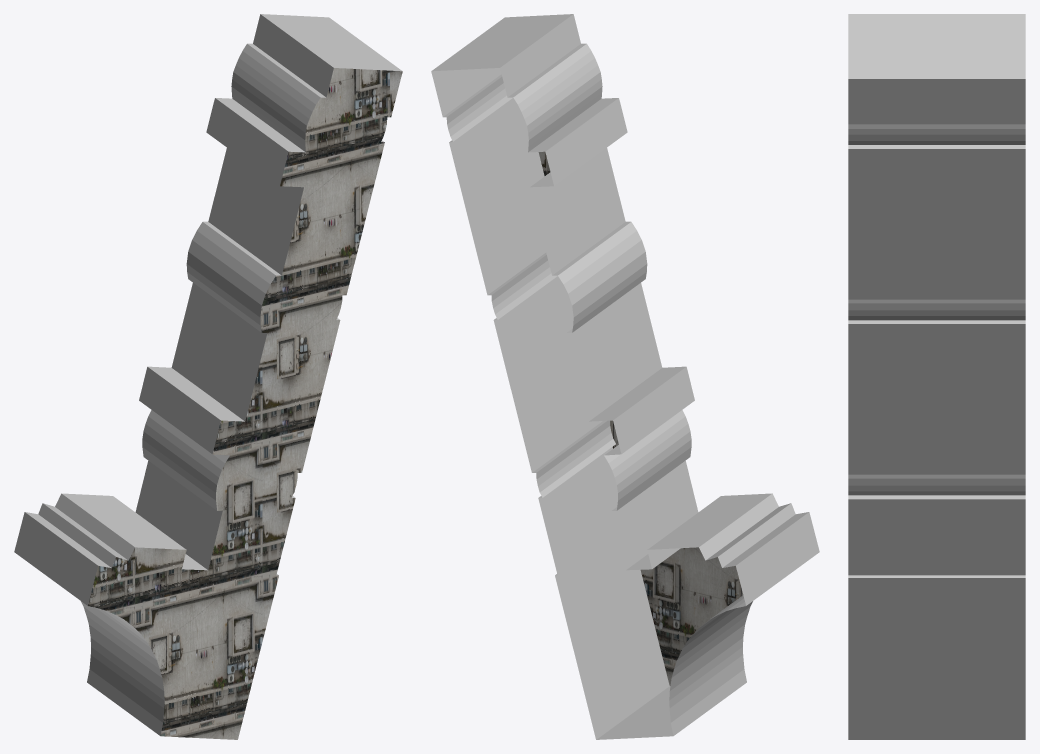
Rendered from geospecific_2495.obj.
3 renders of one model, left to right at view 1: azimuth 30°, elevation 25°; view 2: azimuth 150°, elevation 25°; view 3: azimuth 270°, elevation 25°, orthographic. The views are drawn at different scales.
Visible parts, largest first — view 1: Building; view 2: Building; view 3: Building.
Boxes of the visible parts, x1,y1,x2,y2 form: Building: (14, 14, 402, 739); Building: (431, 14, 819, 739); Building: (848, 14, 1025, 739).
Size of the model in its own units: 37.05 by 72.91 by 15.
